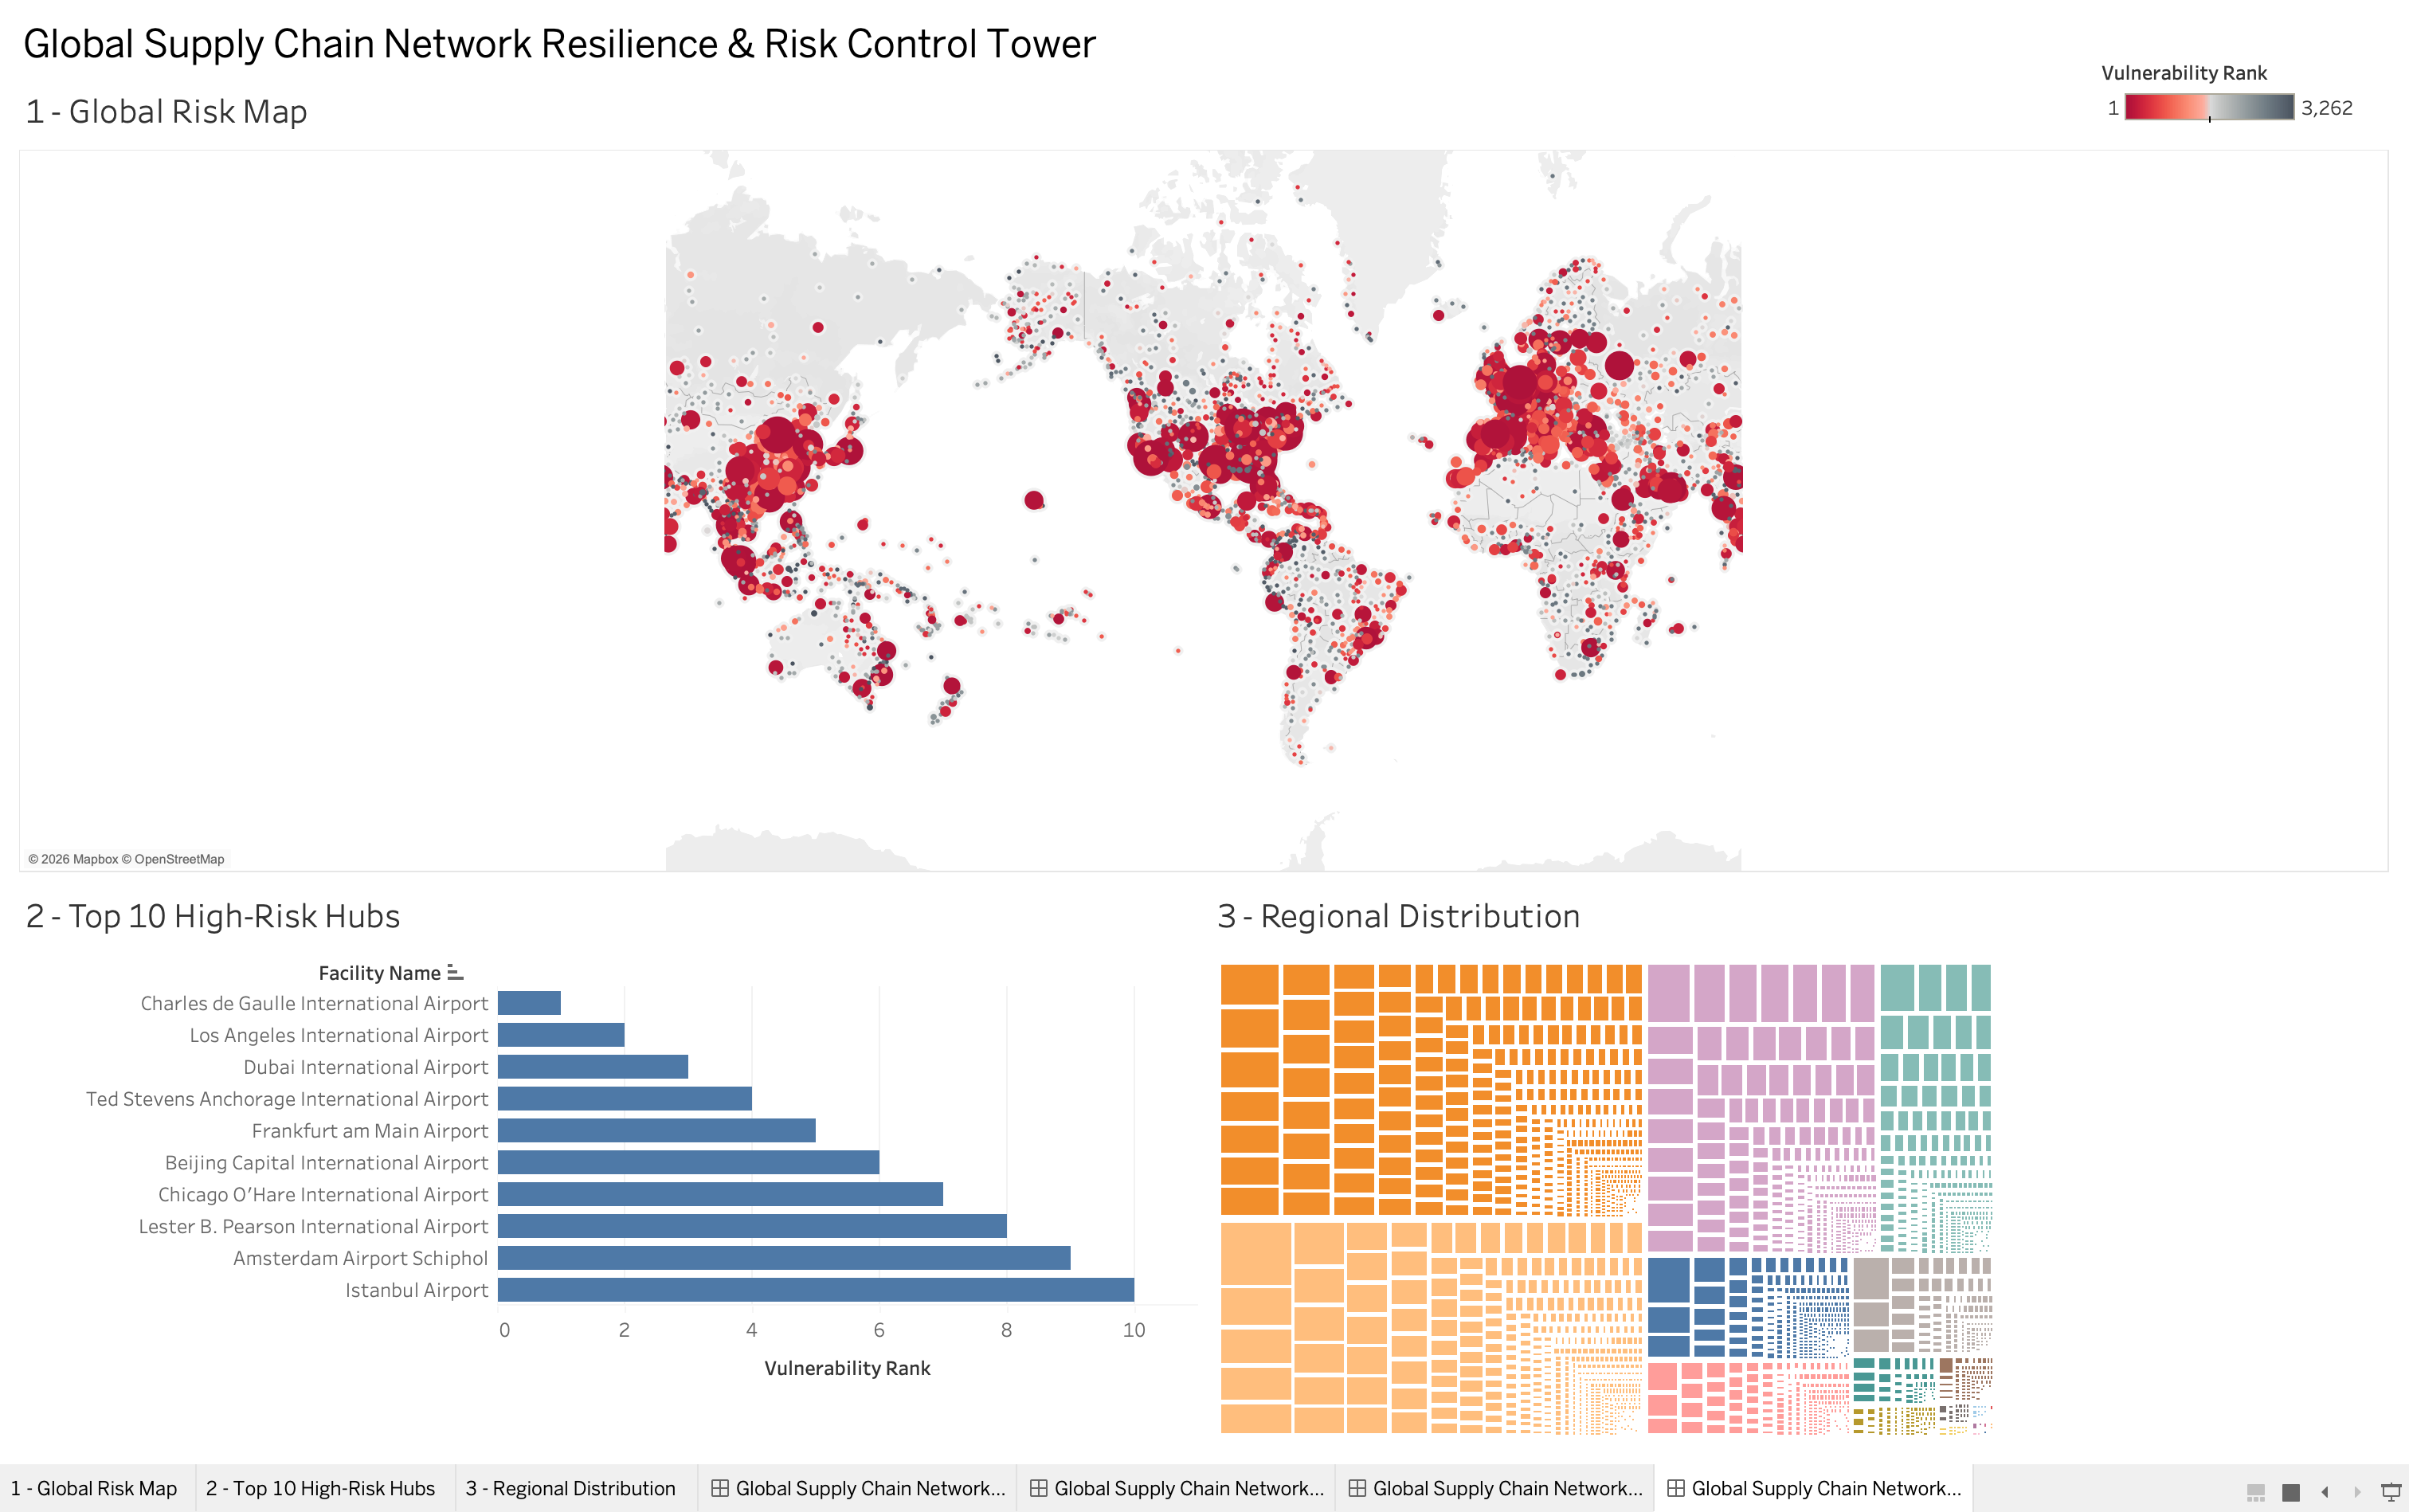

The dashboard page shown, as its layout file describes it:
{"tool":"tableau","page":{"name":"Global Supply Chain Network Resilience & Risk Control Tower","canvas":[1000,1000],"units":"permille","ordinal":0},"visuals":[{"type":"title","box":[5.4,9.7,989.2,47]},{"type":"legend","title":"1 - Global Risk Map","param":"[federated.1a5slqm1bt446q1au5wci0fbxtcb].[attr:vulnerability_rank:qk]","box":[872.4,39.8,107.6,91.7]},{"type":"worksheet","title":"1 - Global Risk Map","mark":"Automatic","rows":["latitude"],"cols":["longitude"],"box":[5.4,56.7,989.2,545.2]},{"type":"worksheet","title":"2 - Top 10 High-Risk Hubs","mark":"Automatic","rows":["facility_name"],"cols":["vulnerability_rank"],"box":[5.4,601.9,494.6,388.4]},{"type":"worksheet","title":"3 - Regional Distribution","mark":"Square","box":[500,601.9,494.7,388.4]}]}

Visuals, with their boxes on the dashboard's canvas, which has no fixed pixel size, in thousandths of its width and height (x1, y1, x2, y2). These are canvas units, not pixel positions in the 2409x1512 screenshot, which may show the page scaled, cropped or inside an application window:
title: <bbox>5, 10, 995, 57</bbox>
"1 - Global Risk Map" legend: <bbox>872, 40, 980, 132</bbox>
"1 - Global Risk Map" worksheet: <bbox>5, 57, 995, 602</bbox>
"2 - Top 10 High-Risk Hubs" worksheet: <bbox>5, 602, 500, 990</bbox>
"3 - Regional Distribution" worksheet (Square marks): <bbox>500, 602, 995, 990</bbox>
